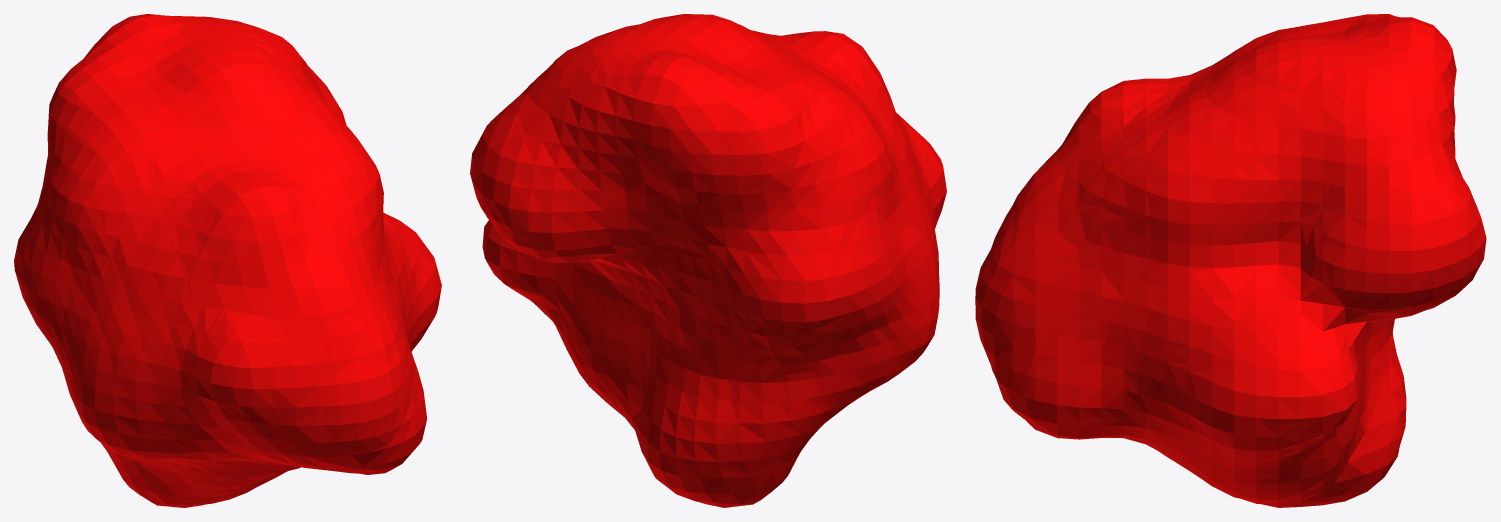
Rendered from Histidine_triad_nucleotide_bin_coarse.dae.
The picture shows the model from 3 angles, left to right: view 1: azimuth 30°, elevation 25°; view 2: azimuth 150°, elevation 25°; view 3: azimuth 270°, elevation 25°; orthographic projection. The views are drawn at different scales.
Visible parts, largest first — view 1: Histidine_triad_nucleotide_bin; view 2: Histidine_triad_nucleotide_bin; view 3: Histidine_triad_nucleotide_bin.
Boxes of the visible parts, box(x1,y1,x2,y2) form: Histidine_triad_nucleotide_bin: box(14, 14, 441, 507); Histidine_triad_nucleotide_bin: box(470, 14, 946, 507); Histidine_triad_nucleotide_bin: box(975, 14, 1486, 507).
Bounding box in the file's own units: 41.61 × 46.68 × 45.
